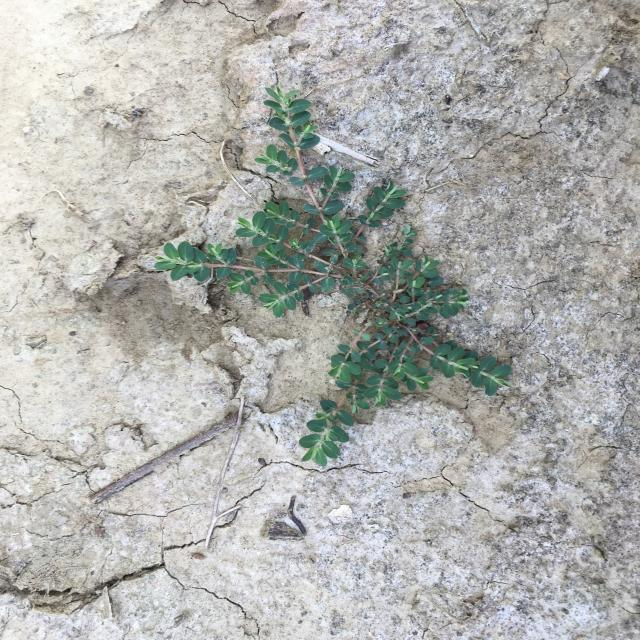SpottedSpurge: (154, 85, 512, 466)
